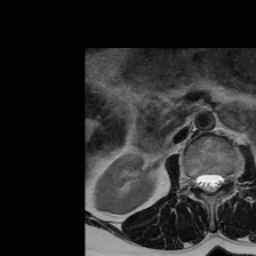CCS_normal: (206, 164, 214, 202)
LFS_normal: (223, 165, 232, 190)
LLS_normal: (214, 165, 223, 195)
RFS_normal: (189, 166, 197, 196)
RLS_normal: (197, 165, 206, 196)
